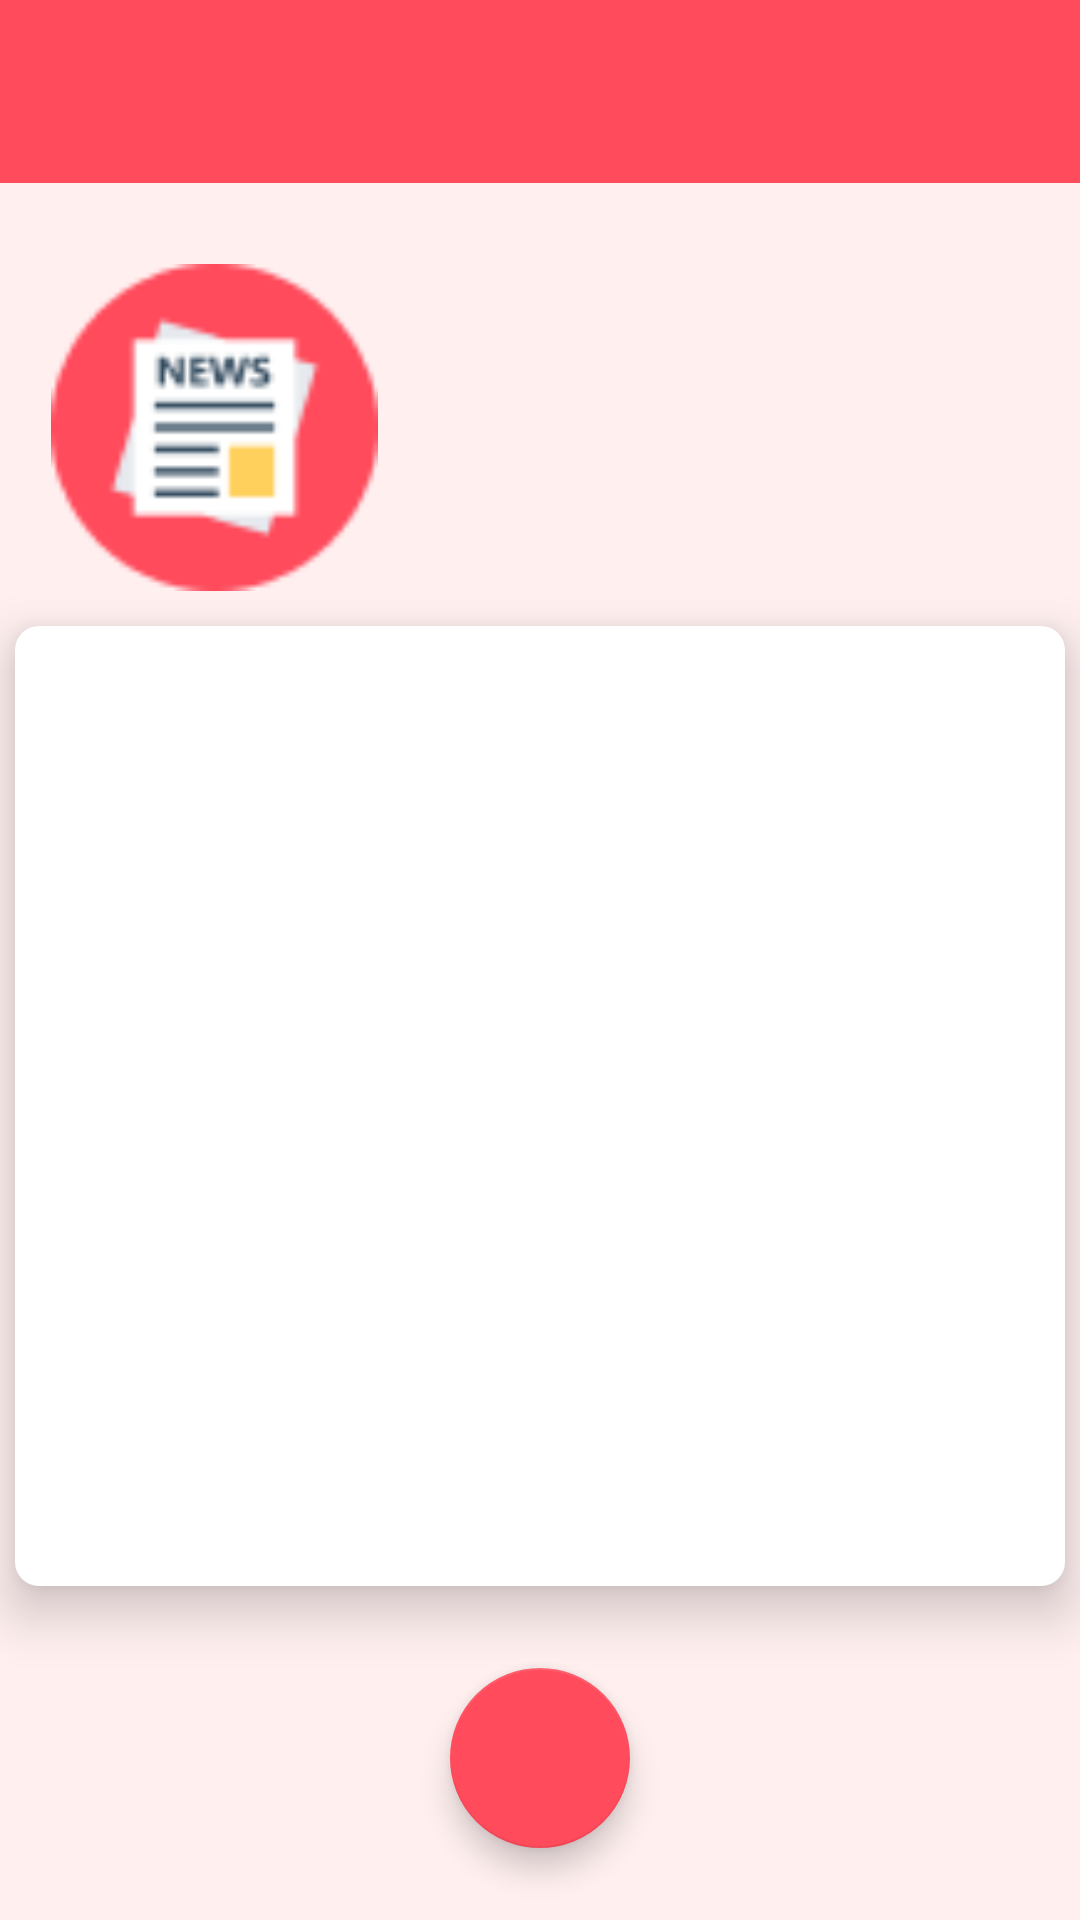

Screen size 1080 x 1920. Icon name, then its box in pixels as bbox=[x1, y1, x2, y2]:
news detail imageview: bbox=[51, 264, 378, 591]
